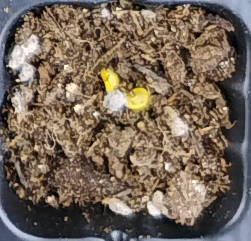pepper seed: (50, 32, 200, 141), (40, 20, 162, 115)
